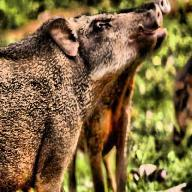boar: (2, 9, 170, 192)
